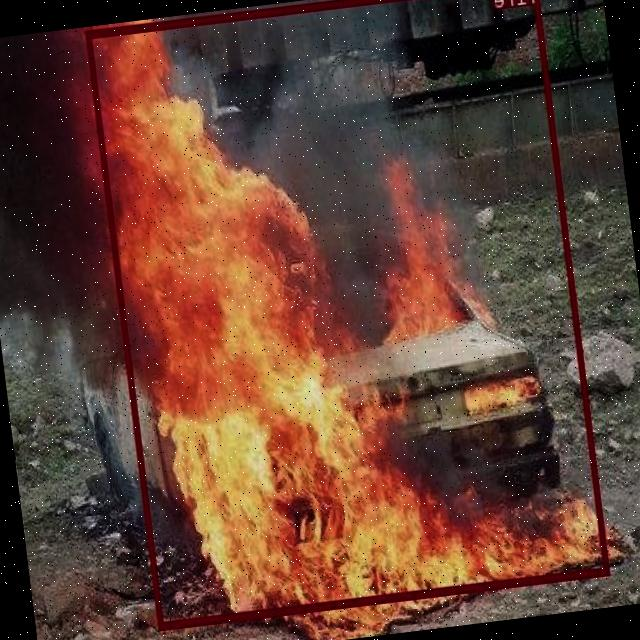fire: (86, 0, 610, 629)
